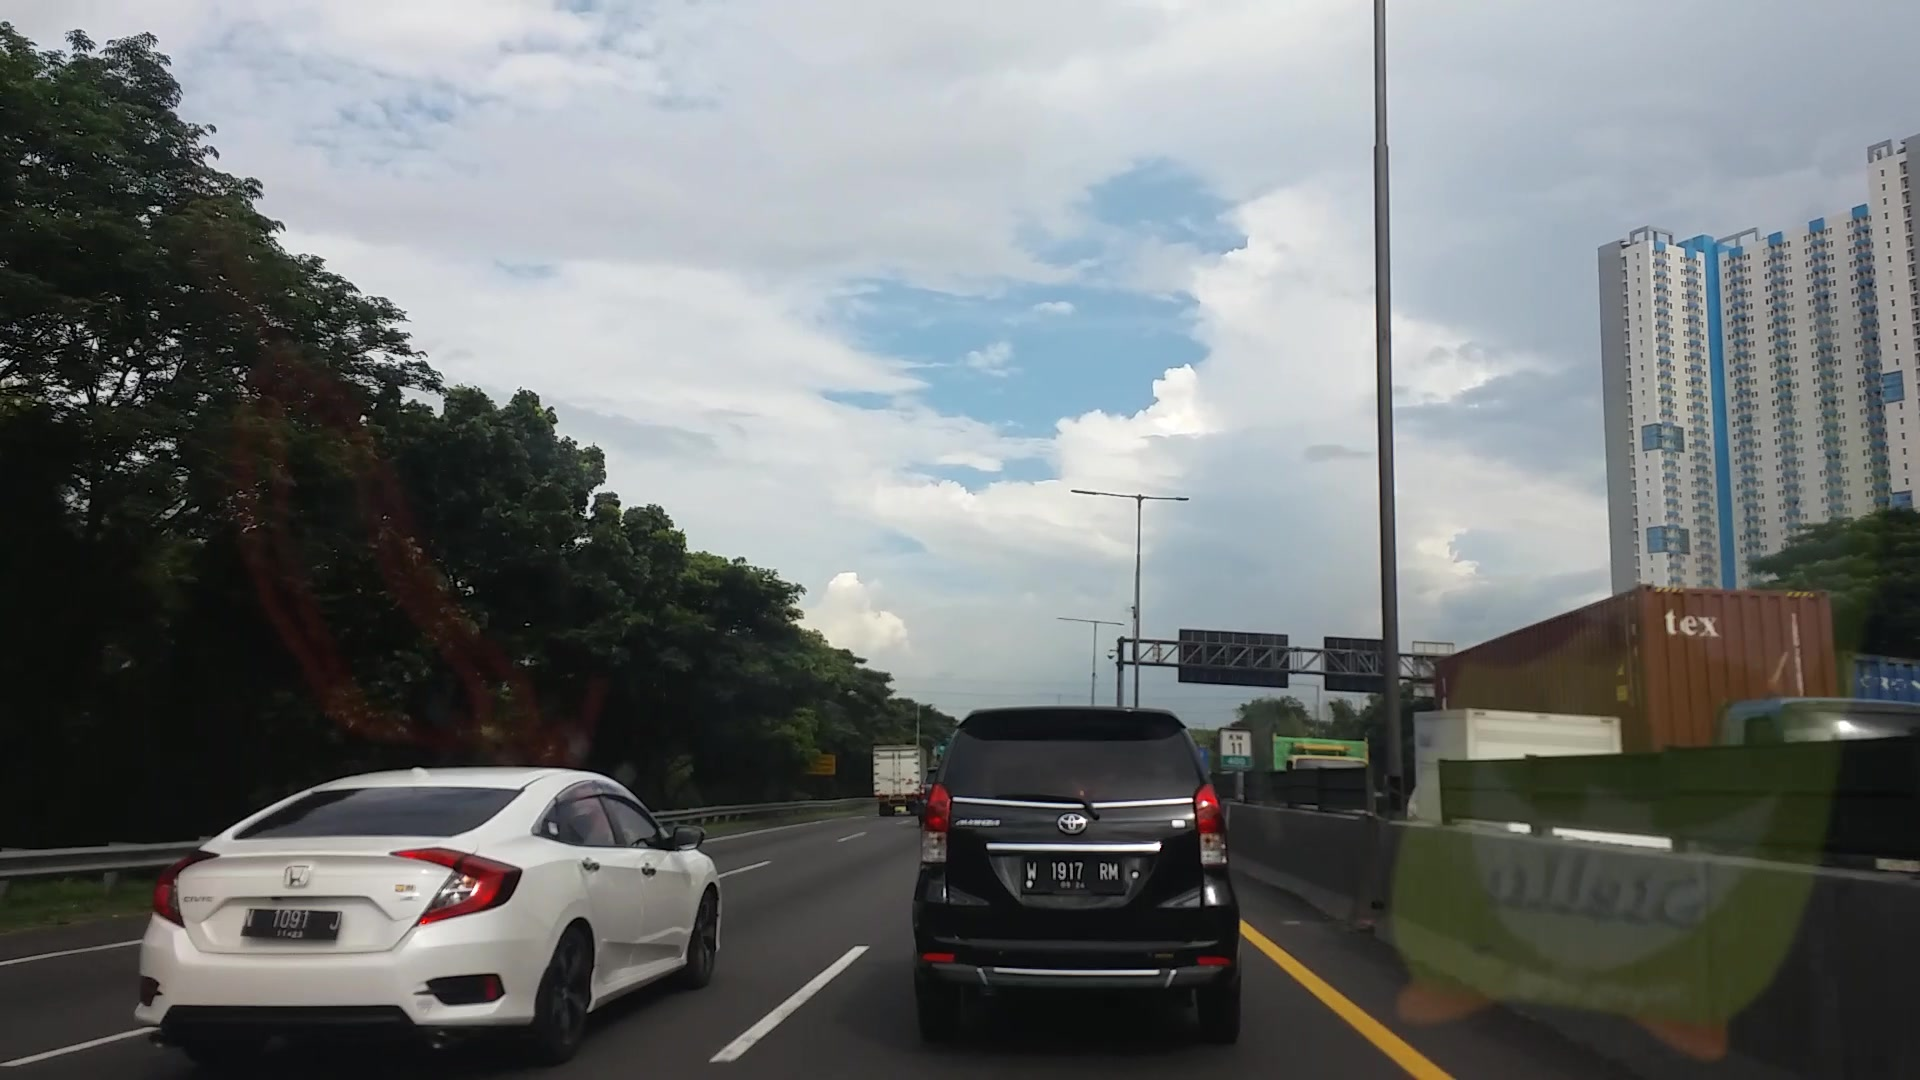plate_positive: (1023, 857, 1122, 891)
